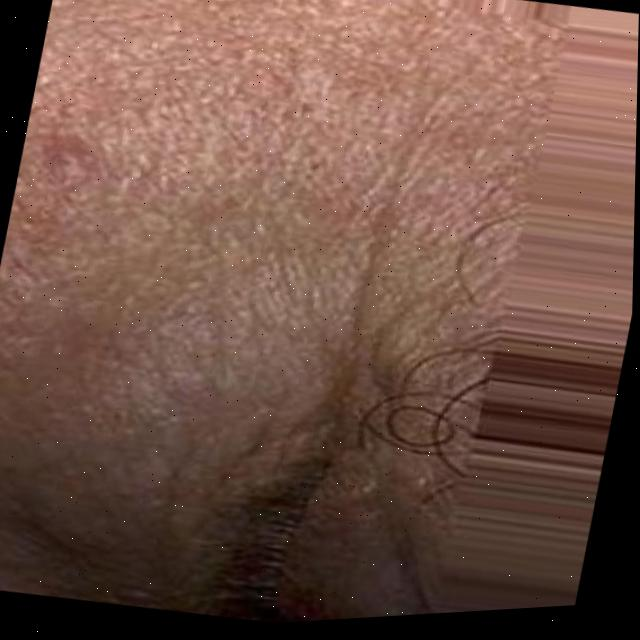Rosacea: (58, 143, 93, 174)
